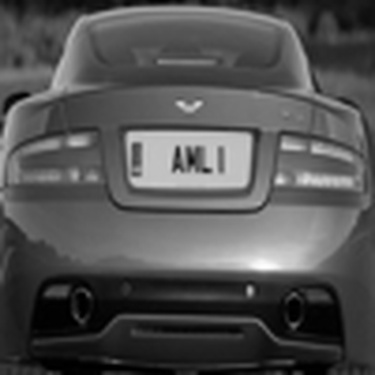car: (1, 10, 367, 371)
